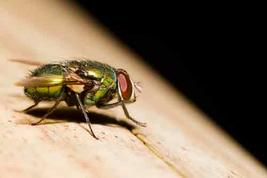phorid fly: (8, 47, 152, 144)
